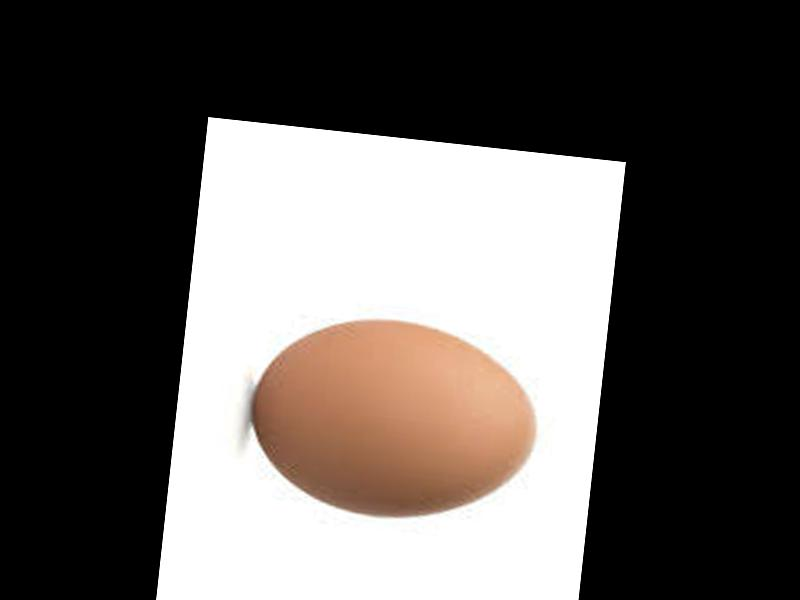Eggs: (240, 308, 543, 531)
